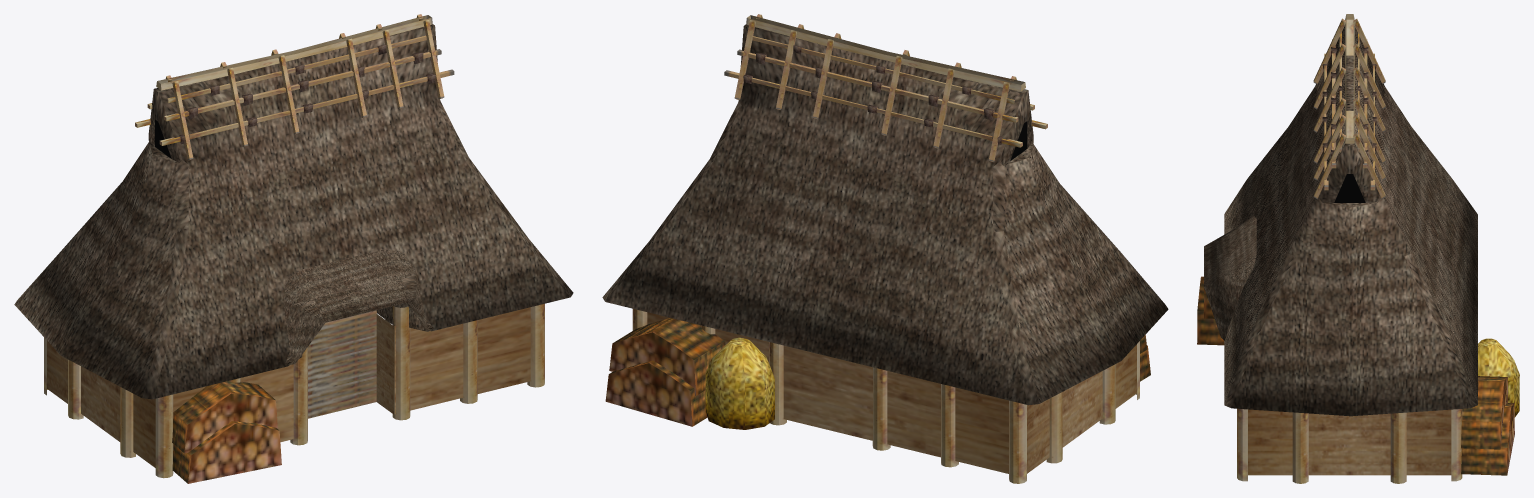
The model's file is yayoi_house_4.dae.
3 views of the same model, side by side, from view 1: azimuth 30°, elevation 25°; view 2: azimuth 150°, elevation 25°; view 3: azimuth 270°, elevation 25° (orthographic). The views are drawn at different scales.
Parts seen in each view (by area): view 1: house_4; view 2: house_4; view 3: house_4.
Boxes of the visible parts, bbox=[...] form: house_4: bbox=[14, 14, 573, 483]; house_4: bbox=[602, 14, 1168, 483]; house_4: bbox=[1197, 14, 1519, 483].
Size of the model in its own units: 15.83 by 10.14 by 11.01.
